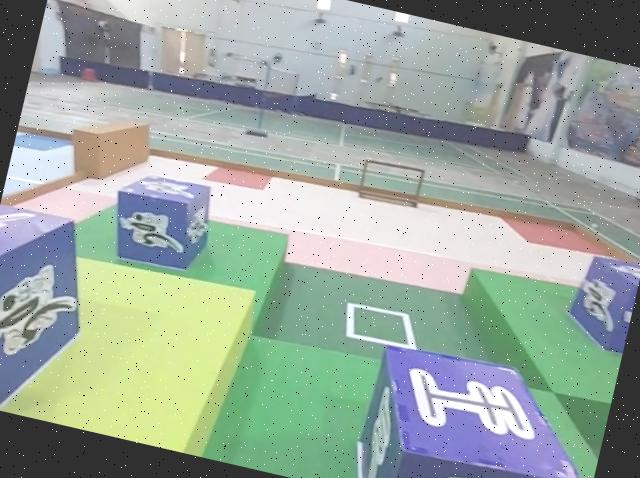R1 Blue: (0, 202, 103, 424), (101, 165, 218, 279), (559, 248, 640, 355)
R2 Fake Blue: (348, 337, 605, 478)
